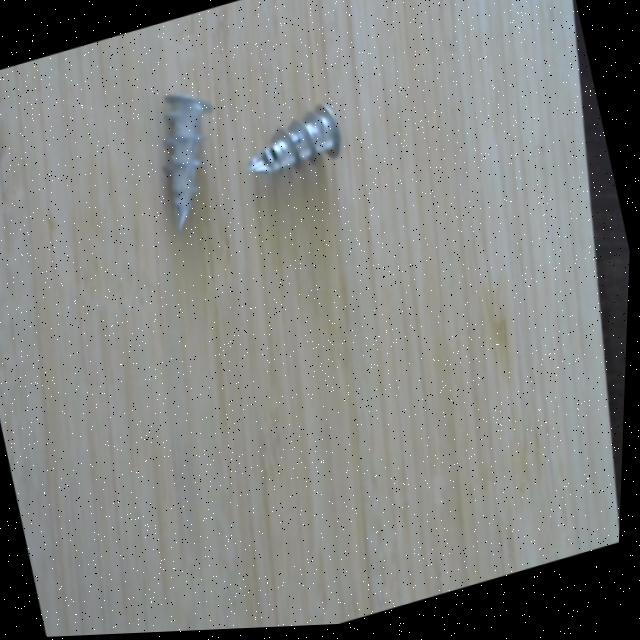Short screw: (135, 70, 244, 241), (235, 92, 358, 197)
